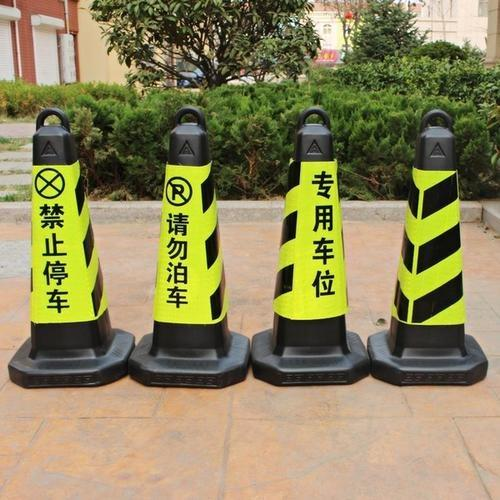cone_barrel: (4, 110, 130, 380), (126, 102, 245, 374), (248, 109, 369, 376), (365, 112, 486, 377)
